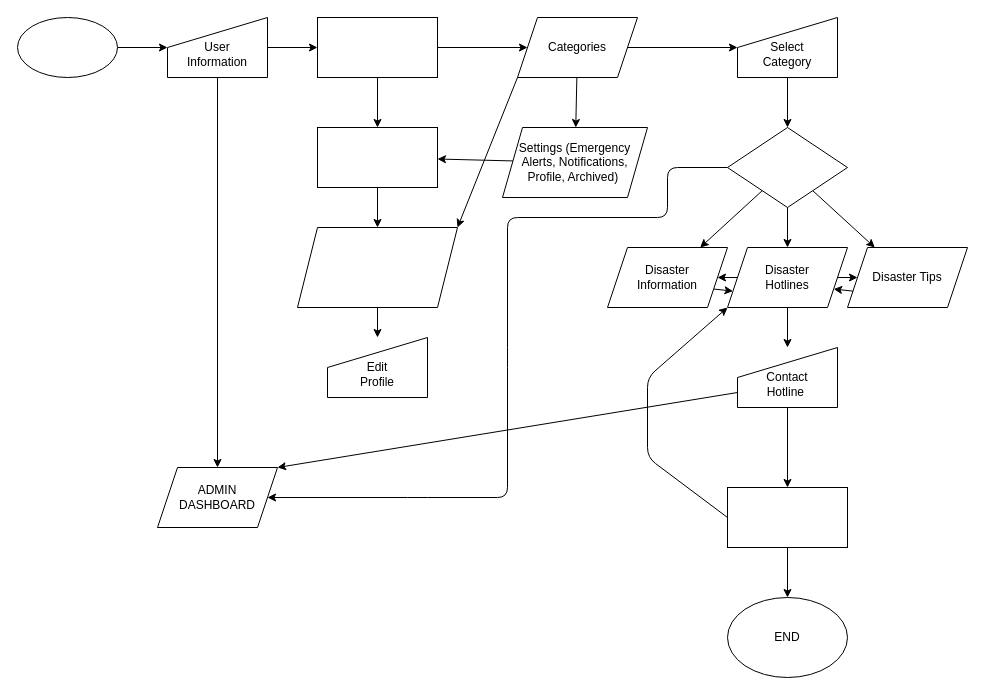
This 985x695 diagram has some shape labels left out. Here are the shapes that lost their labels. From the top down, the centre of each, then its label:
pixel 67 47: START
pixel 377 47: User Registration
pixel 377 157: Storing in Database
pixel 787 167: Navigation Bottom Tabs
pixel 377 267: Profile (Email, Password, Contact #, Location)
pixel 787 517: Hotline Response
